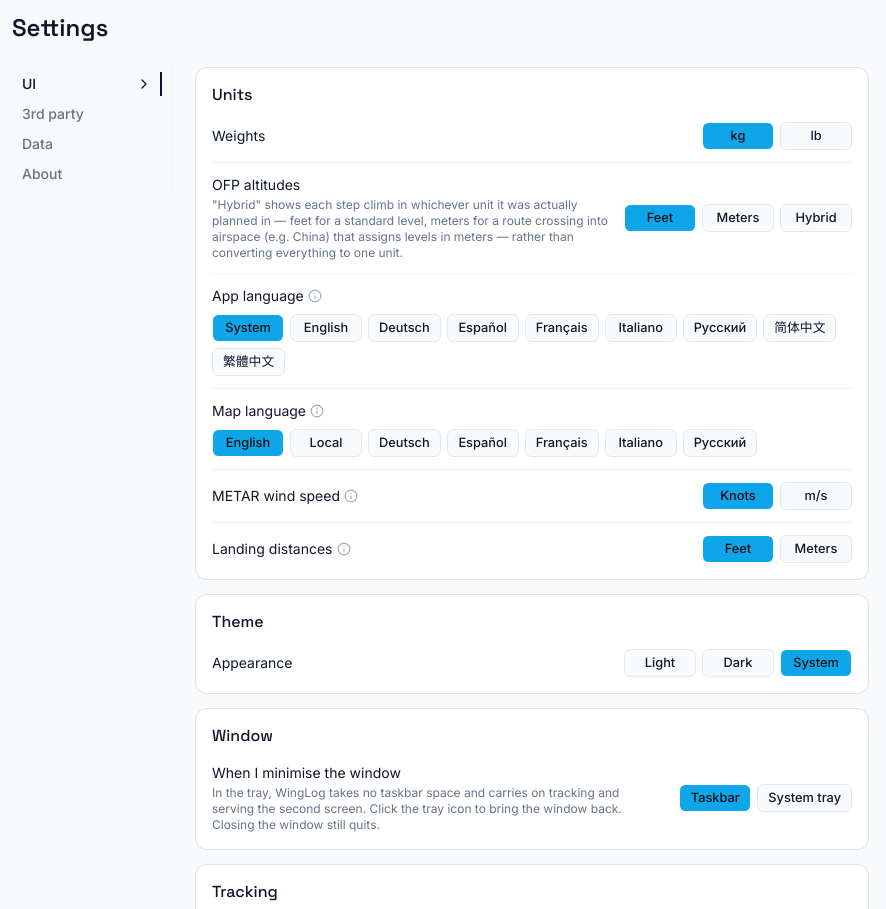
Test: SettingsView › category tabs › switches to the Data category
The image size is (886, 909).
Step 1. Click the tab "Data" → (87, 144), box 15,131 -> 159,157
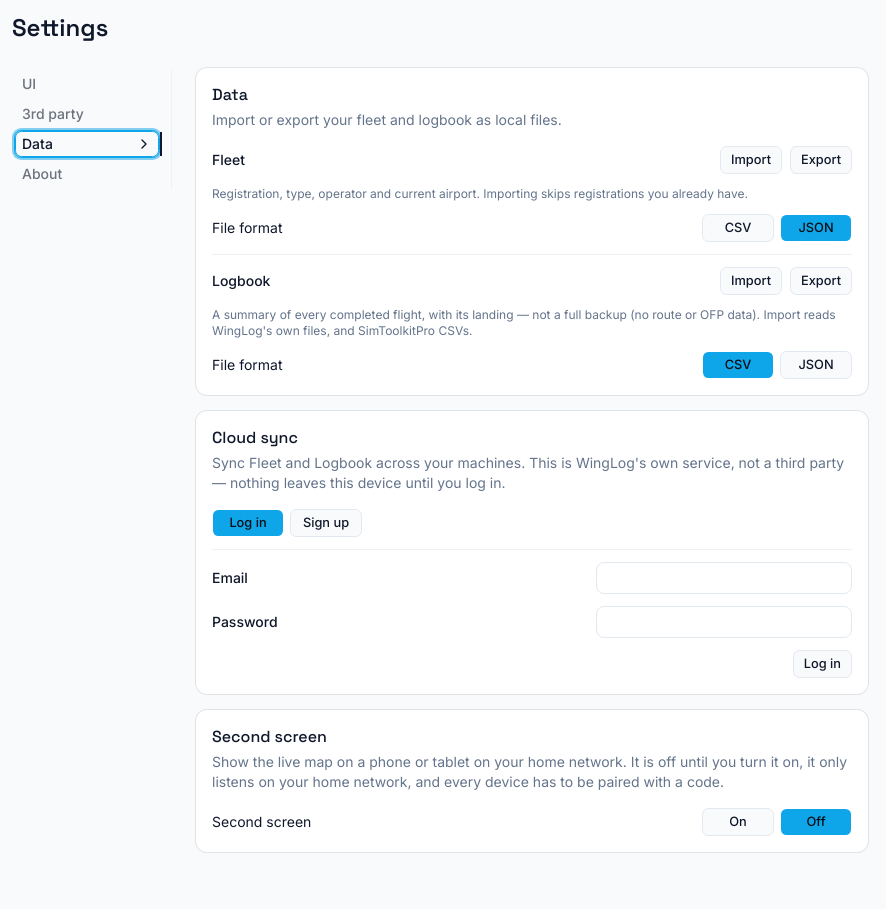
Check: the element named "Fleet data" is shown, box 212,146 -> 852,255
Check: the element named "Logbook data" is shown, box 212,255 -> 852,379
